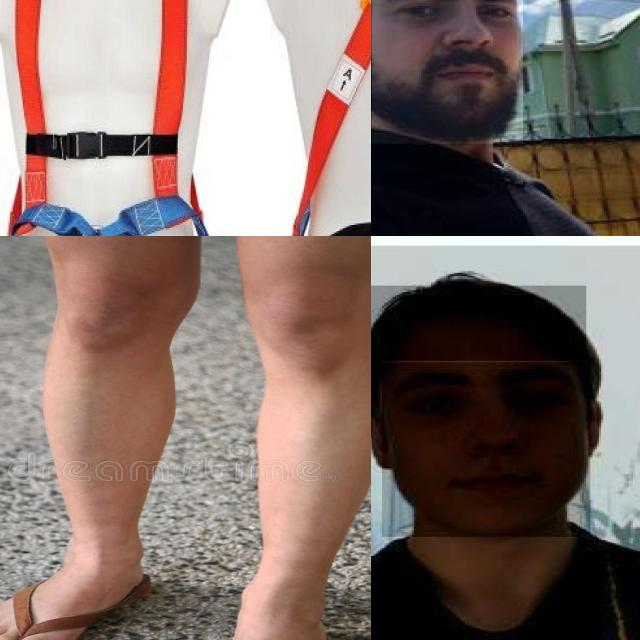Harness: (0, 0, 221, 236), (273, 0, 371, 236)
No_Glasses: (371, 0, 533, 37)
Sandals: (0, 529, 151, 640), (215, 577, 358, 640)
face_nomask: (382, 362, 591, 537), (372, 0, 523, 144)
head_nohelmet: (371, 285, 586, 360)
person: (371, 245, 640, 640), (371, 0, 640, 236)
